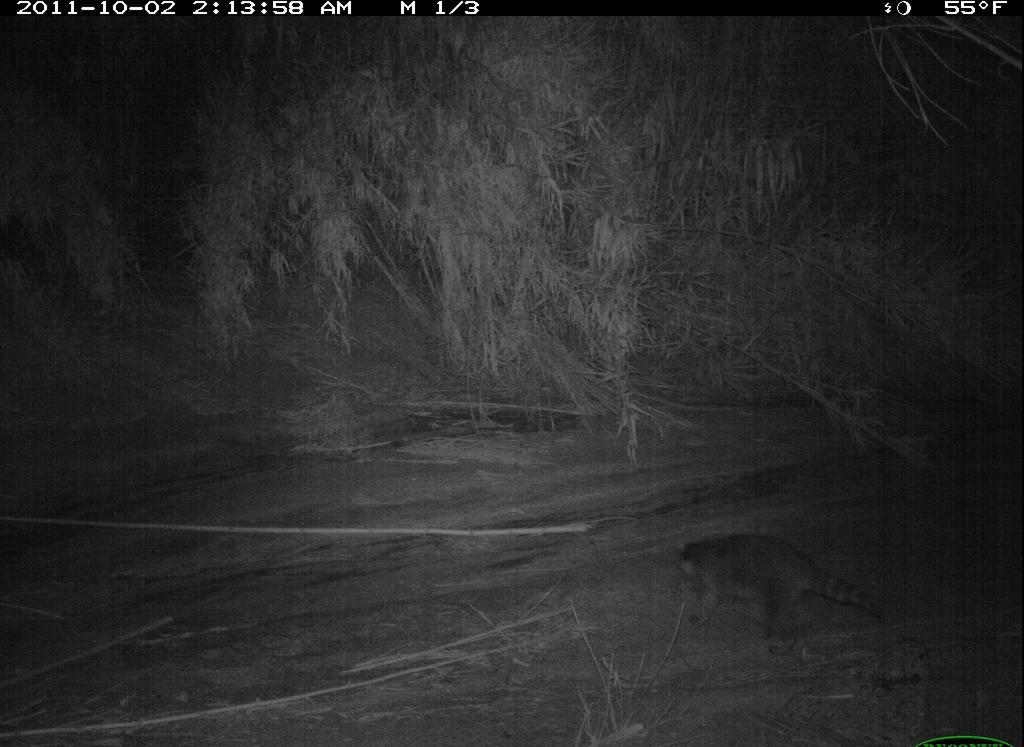raccoon: (664, 514, 890, 674)
